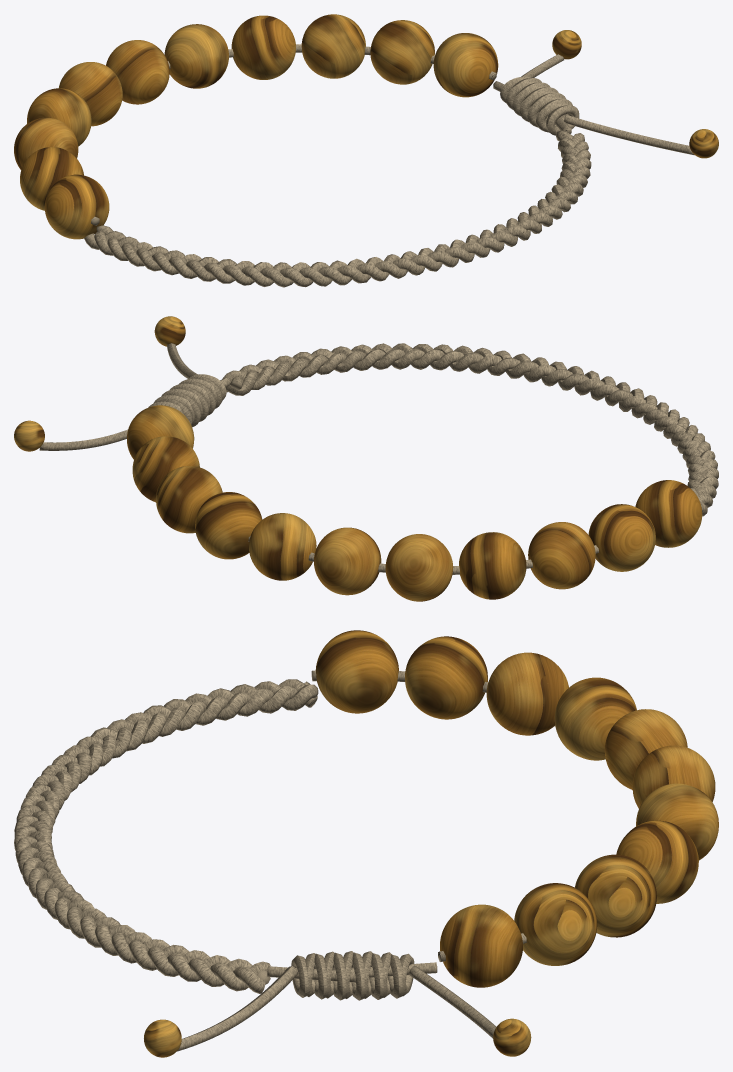
The model's file is tygrysie-oko.glb.
The picture shows the model from 3 angles, top to bottom: view 1: azimuth 30°, elevation 25°; view 2: azimuth 150°, elevation 25°; view 3: azimuth 270°, elevation 25°; orthographic projection. The views are drawn at different scales.
Parts seen in each view (by area): view 1: warkocz, warkocz.002, warkocz.001, bead_round_0.001, bead_round_2, bead_round_1, bead_round_0, bead_round_1.001, bead_round_1.003, bead_round_2.001, bead_round_0.002, bead_round_0.003 (+6 smaller); view 2: warkocz.001, warkocz, warkocz.002, bead_round_0.002, bead_round_1.002, bead_round_2.001, bead_round_2.002, bead_round_1.001, bead_round_0.003, bead_round_0.001, bead_round_1.003, bead_round_2 (+5 smaller); view 3: warkocz.001, warkocz, warkocz.002, bead_round_1.003, bead_round_0.003, bead_round_0, bead_round_1, bead_round_2.002, bead_round_2, bead_round_1.002, bead_round_0.001, bead_round_0.002 (+6 smaller).
Boxes of the visible parts, box(x1,y1,x2,y2) form: warkocz: box(84, 130, 590, 287); warkocz.002: box(94, 133, 591, 286); warkocz.001: box(96, 134, 590, 287); bead_round_0.001: box(231, 15, 295, 79); bead_round_2: box(301, 14, 365, 78); bead_round_1: box(370, 20, 434, 84); bead_round_0: box(433, 33, 498, 97); bead_round_1.001: box(164, 24, 228, 88); bead_round_1.003: box(44, 174, 109, 239); bead_round_2.001: box(106, 40, 169, 104); bead_round_0.002: box(59, 62, 122, 126); bead_round_0.003: box(20, 147, 83, 210); warkocz.001: box(226, 343, 718, 507); warkocz: box(230, 344, 717, 498); warkocz.002: box(222, 343, 718, 516); bead_round_0.002: box(385, 534, 453, 601); bead_round_1.002: box(459, 532, 526, 599); bead_round_2.001: box(314, 527, 381, 595); bead_round_2.002: box(528, 522, 595, 589); bead_round_1.001: box(249, 513, 316, 580); bead_round_0.003: box(588, 504, 655, 571); bead_round_0.001: box(195, 492, 262, 559); bead_round_1.003: box(635, 480, 702, 547); bead_round_2: box(156, 465, 222, 533); warkocz.001: box(14, 681, 318, 986); warkocz: box(15, 681, 310, 991); warkocz.002: box(14, 679, 317, 993); bead_round_1.003: box(315, 630, 398, 713); bead_round_0.003: box(405, 636, 487, 719); bead_round_0: box(440, 904, 522, 987); bead_round_1: box(514, 883, 597, 965); bead_round_2.002: box(486, 652, 568, 735); bead_round_2: box(575, 854, 656, 937); bead_round_1.002: box(554, 677, 636, 760); bead_round_0.001: box(616, 820, 698, 903); bead_round_0.002: box(604, 709, 687, 789).
Size of the model in its own units: 7.41 by 0.7018 by 5.94.
4 materials, 4 textured.
